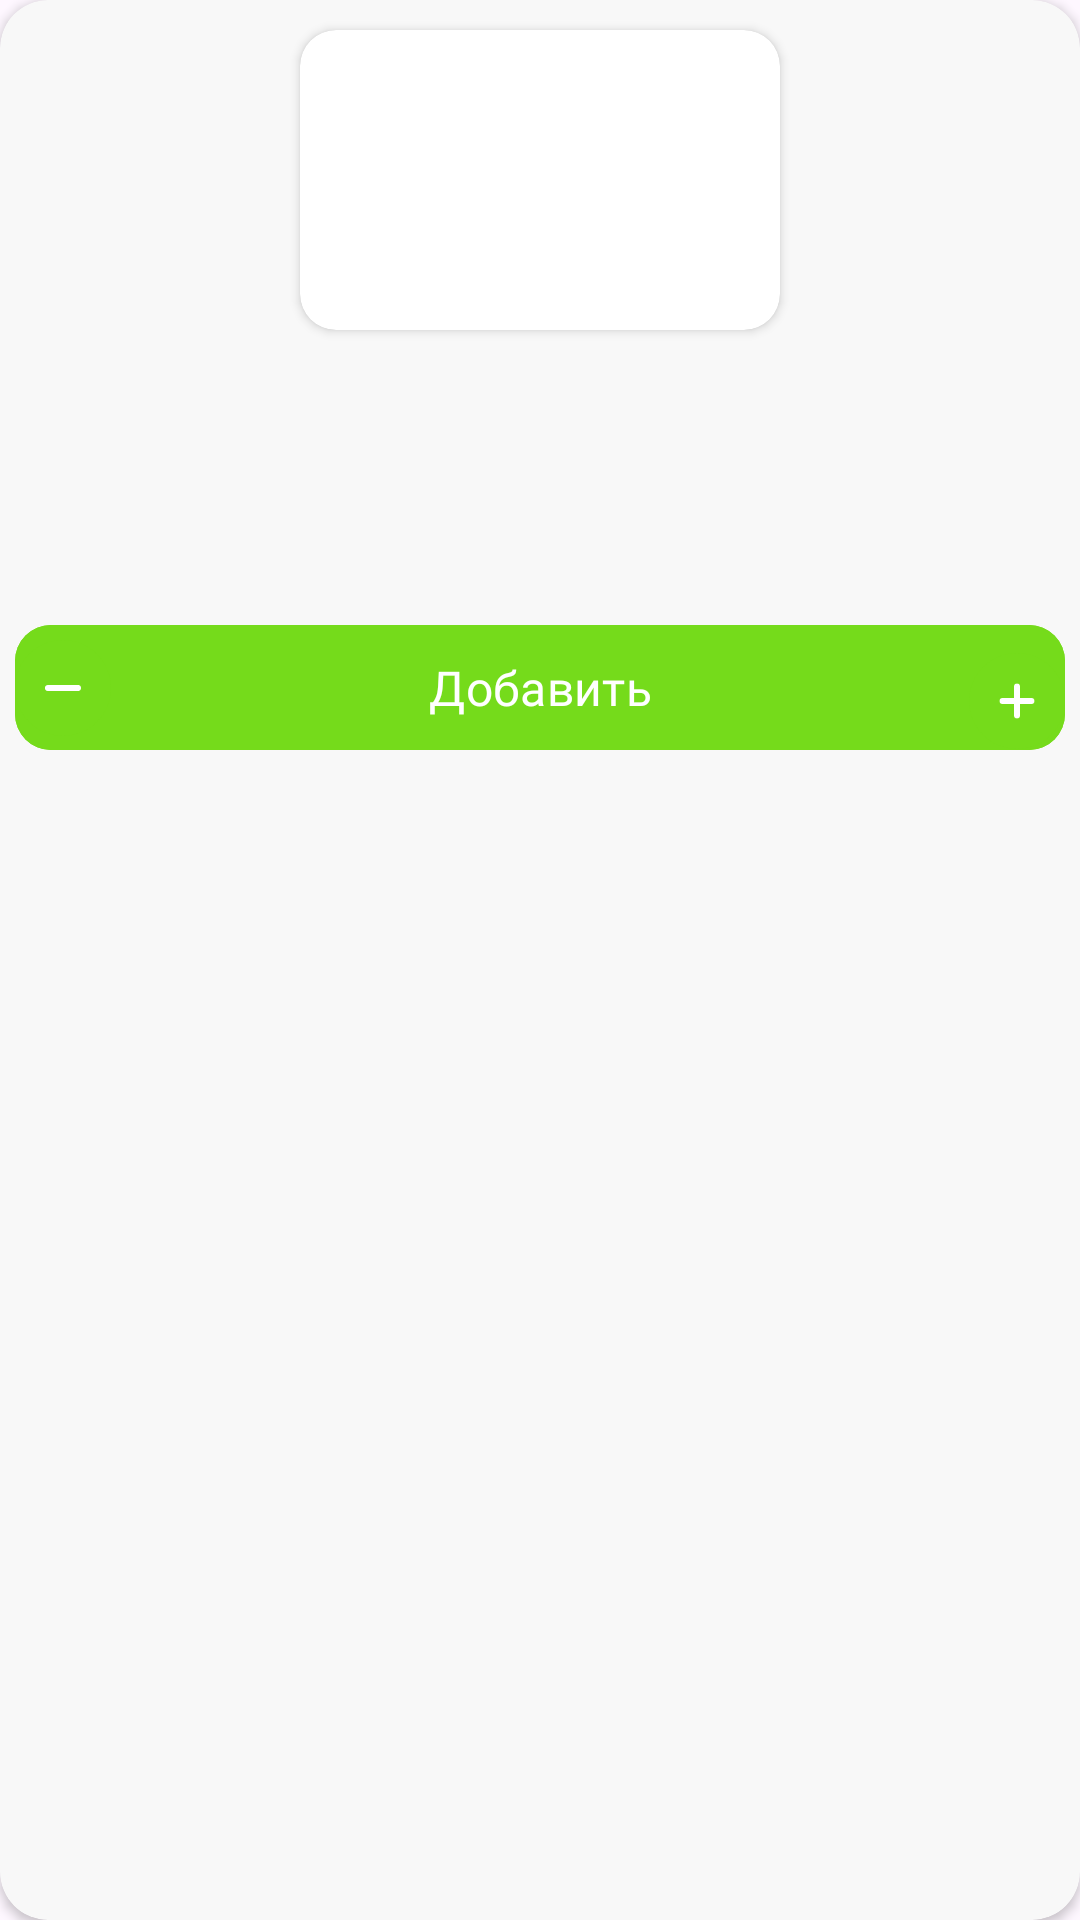

Icons on this 1080×1920 Android screen, each with its box as {"x1": x1, "y1": y1, "x2": x2, "y2": y2}:
minus shape: {"x1": 45, "y1": 685, "x2": 81, "y2": 691}
